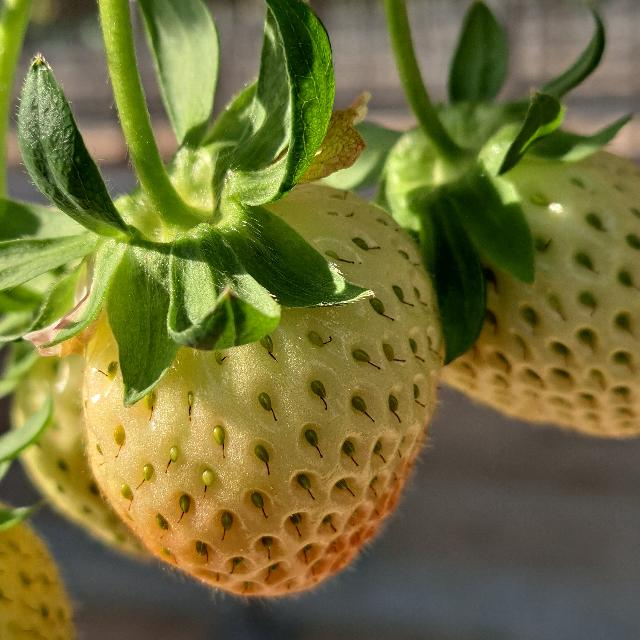Health_25: (390, 131, 640, 443)
Health_50: (82, 182, 442, 594)
